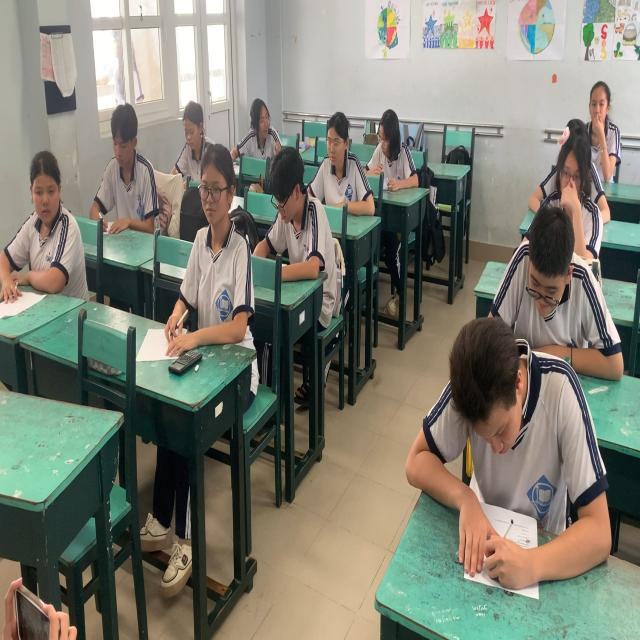cheating: (23, 141, 88, 301), (240, 94, 279, 172)
not_cheating: (427, 306, 601, 528), (191, 136, 246, 339), (508, 204, 592, 317), (264, 142, 320, 279), (97, 97, 147, 233), (317, 100, 369, 228), (542, 130, 596, 223), (580, 68, 622, 187), (371, 93, 412, 198), (175, 91, 213, 190)
